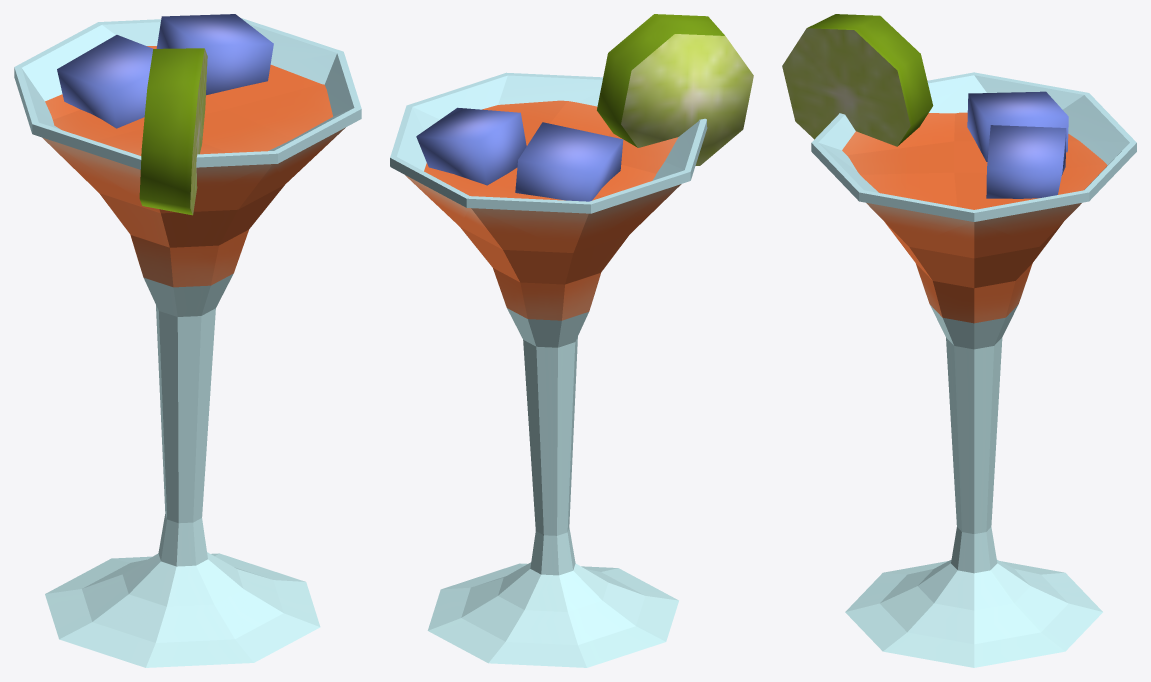
Rendered from H_CocktailGlassDrink.fbx.
3 views of the same model, side by side, from view 1: azimuth 30°, elevation 25°; view 2: azimuth 150°, elevation 25°; view 3: azimuth 270°, elevation 25° (orthographic). The views are drawn at different scales.
Parts seen in each view (by area): view 1: CocktailGlass; view 2: CocktailGlass; view 3: CocktailGlass.
Part boxes in pixels (<box>): CocktailGlass: <box>14,14,361,667</box>; CocktailGlass: <box>390,14,753,667</box>; CocktailGlass: <box>782,14,1136,667</box>.
Size of the model in its own units: 18.02 by 34.43 by 19.64.
